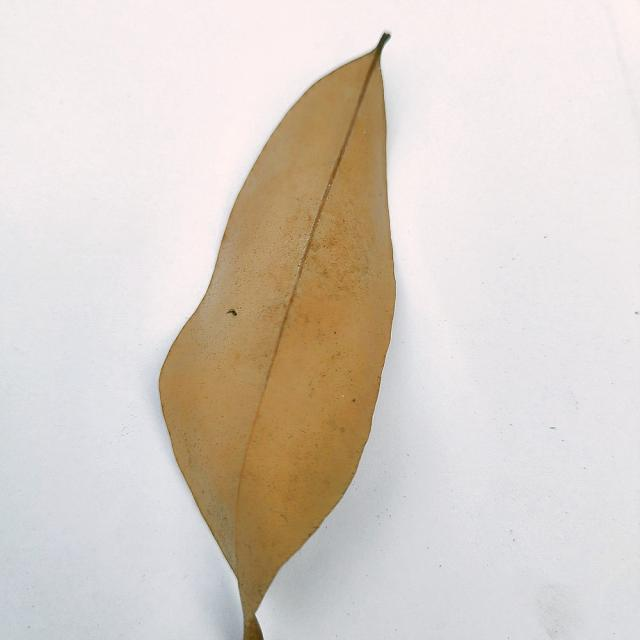Dry_Leaf-Lychee: (157, 38, 397, 639)
